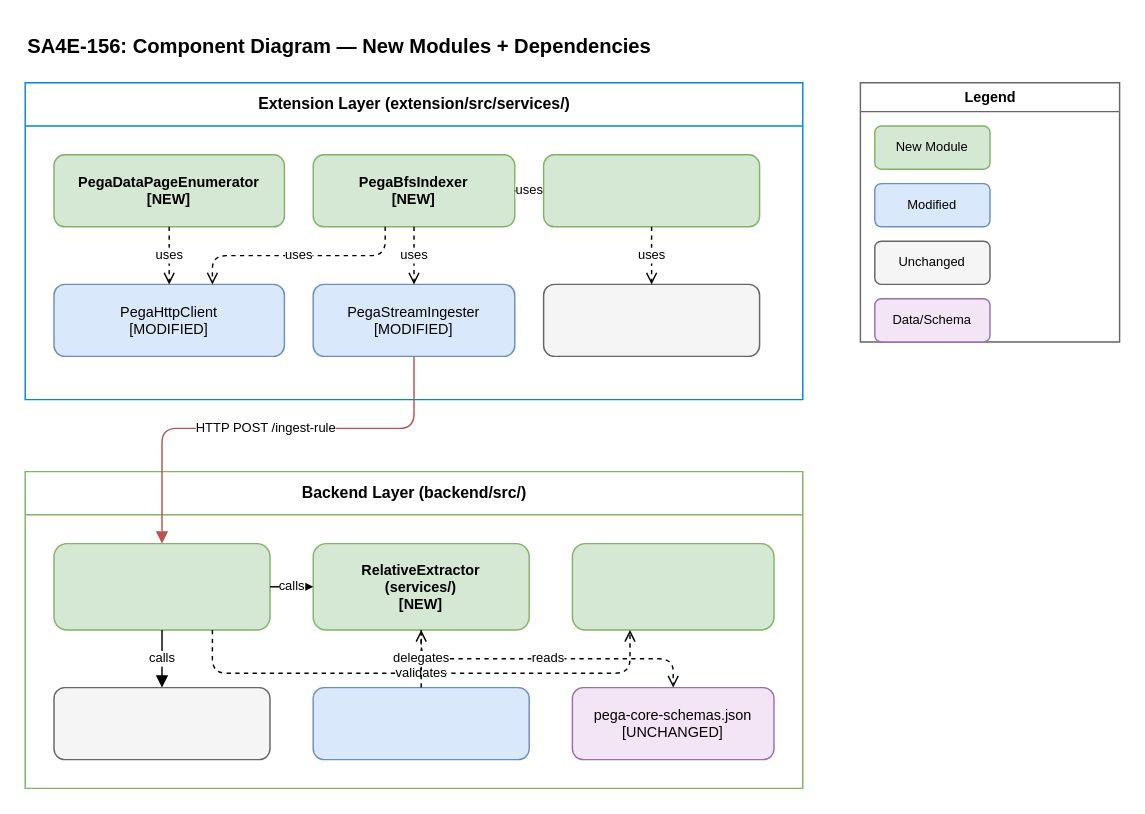
This 1145x814 diagram has some shape labels left out. The centre of each missing label's shape, as x and y in pixels:
"DependencyMapper [NEW]" belongs at (x=651, y=190).
"ingest-rule.schema.ts (Zod) [NEW]" belongs at (x=672, y=586).
"IngestRuleRoute (pega-ingest-rule.ts) [NEW]" belongs at (x=161, y=586).
"KbDrivenPegaParser Strategy [MODIFIED]" belongs at (x=420, y=723).
"PegaCrawlModels [UNCHANGED]" belongs at (x=651, y=319).
"PegaService [UNCHANGED]" belongs at (x=161, y=723).
